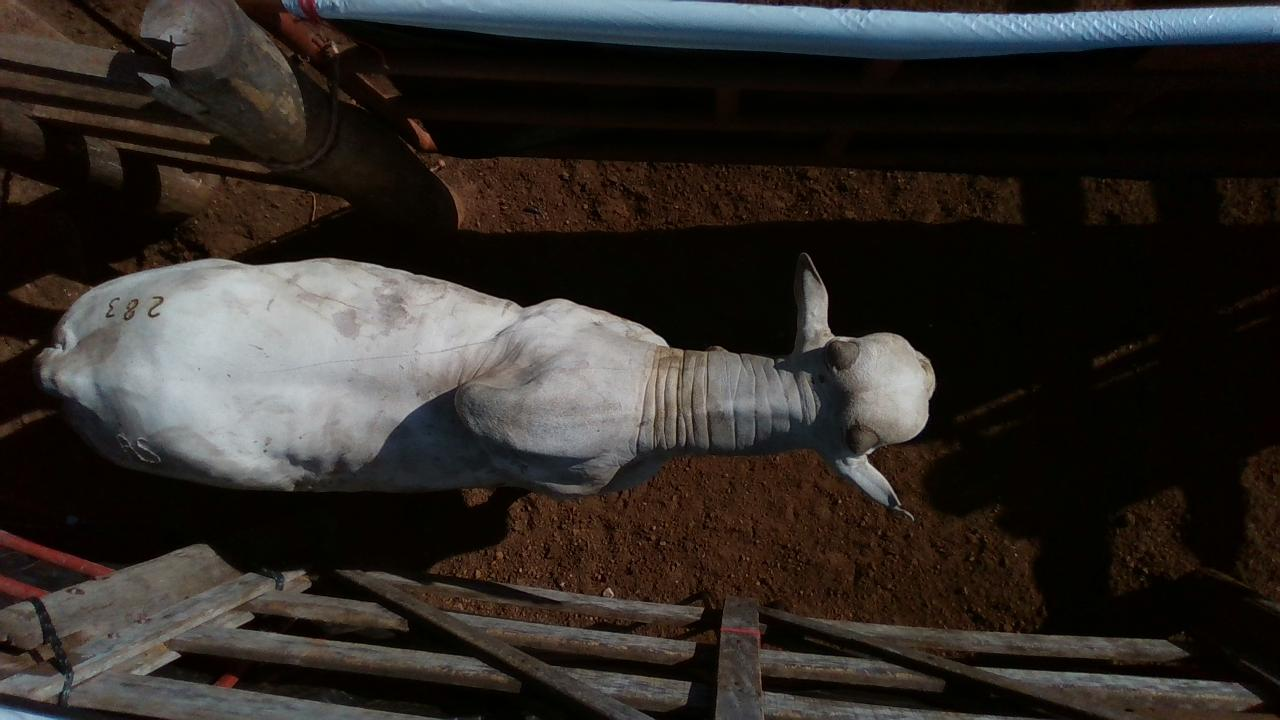cattle: (32, 250, 937, 520)
